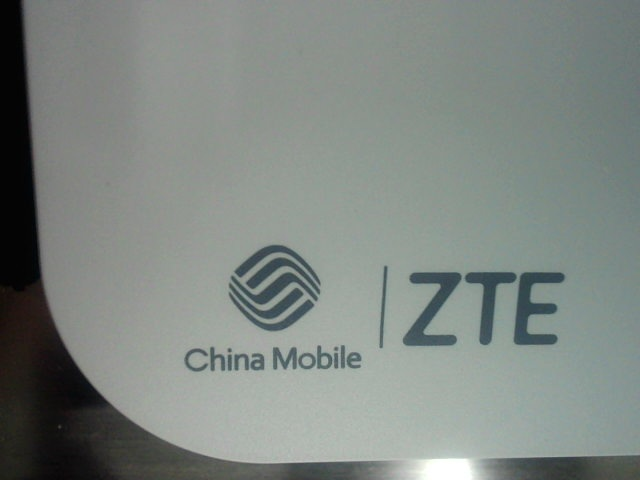AL_ZTEChinaMobile: (166, 244, 580, 373)
